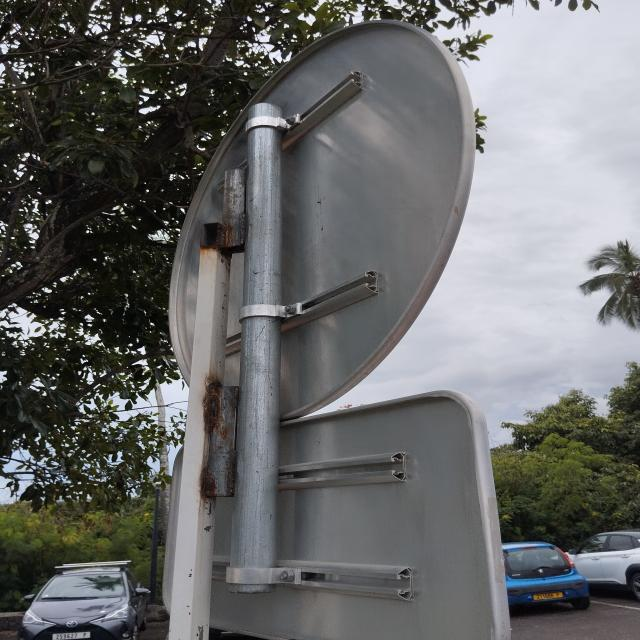Panneau: (169, 19, 475, 414)
